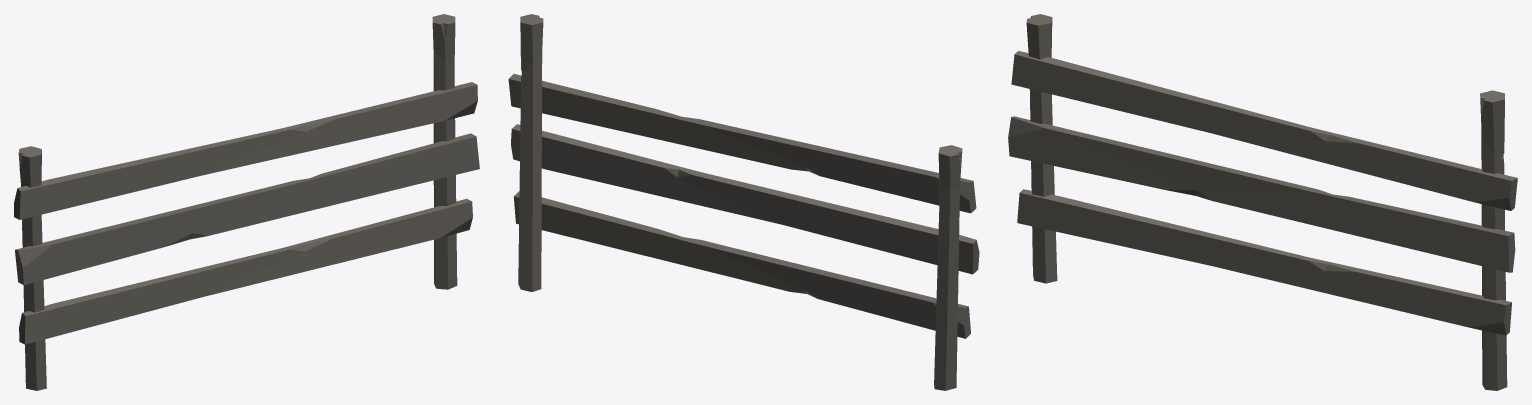
The model's file is ancient_SM_Env_Fence_Wood_01.gltf.
3 views of the same model, side by side, from view 1: azimuth 30°, elevation 25°; view 2: azimuth 150°, elevation 25°; view 3: azimuth 330°, elevation 25° (orthographic). The views are drawn at different scales.
Parts seen in each view (by area): view 1: SM_Env_Fence_Wood_01; view 2: SM_Env_Fence_Wood_01; view 3: SM_Env_Fence_Wood_01.
Part boxes in pixels (x1,y1,x2,y2): SM_Env_Fence_Wood_01: (14, 14, 479, 390); SM_Env_Fence_Wood_01: (508, 14, 979, 390); SM_Env_Fence_Wood_01: (1008, 14, 1517, 390).
Bounding box in the file's own units: 2.58 × 1.43 × 0.1726.
Materials: 1 (1 with a texture image).
